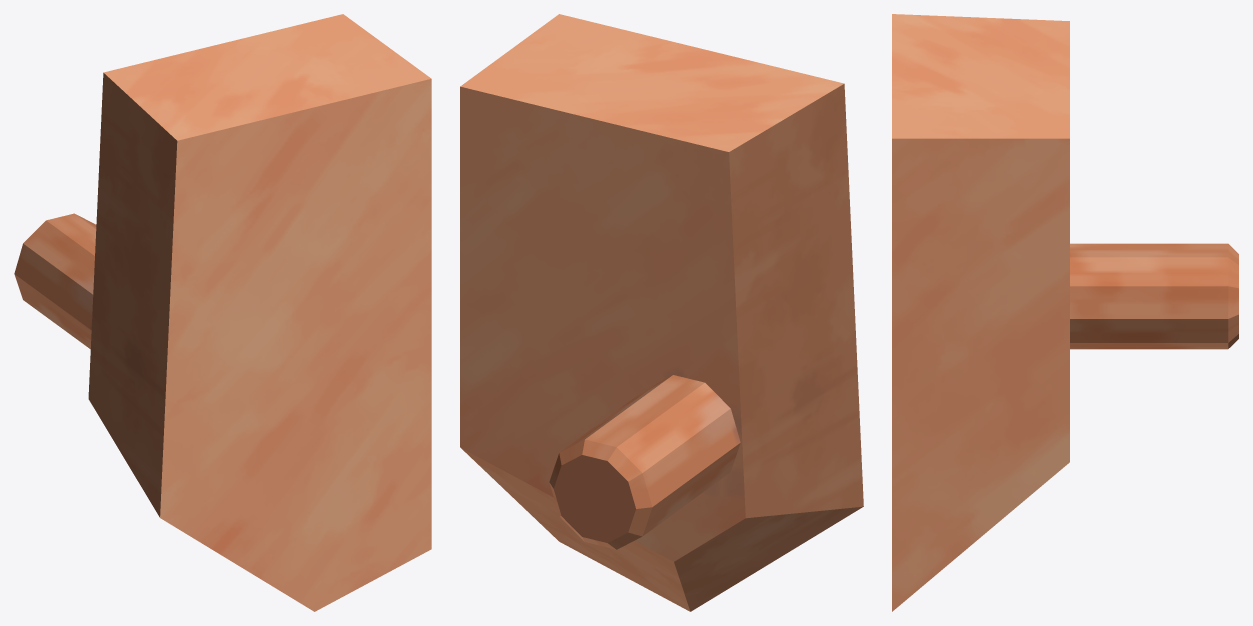
Rendered from wall_upper_window_s07.fbx.
The picture shows the model from 3 angles, left to right: view 1: azimuth 30°, elevation 25°; view 2: azimuth 150°, elevation 25°; view 3: azimuth 270°, elevation 25°; orthographic projection. The views are drawn at different scales.
Visible parts, largest first — view 1: wall_upper_window_s07; view 2: wall_upper_window_s07; view 3: wall_upper_window_s07.
Boxes of the visible parts, x1=… form: wall_upper_window_s07: x1=14, y1=14, x2=431, y2=611; wall_upper_window_s07: x1=460, y1=14, x2=863, y2=611; wall_upper_window_s07: x1=892, y1=14, x2=1238, y2=611.
Bounding box in the file's own units: 1.77 × 3.15 × 1.95.
